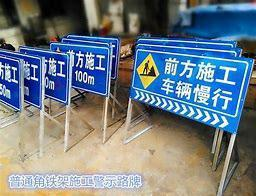sign: (132, 48, 251, 134), (72, 44, 110, 98), (43, 52, 69, 105), (1, 55, 21, 115), (22, 55, 43, 111)
